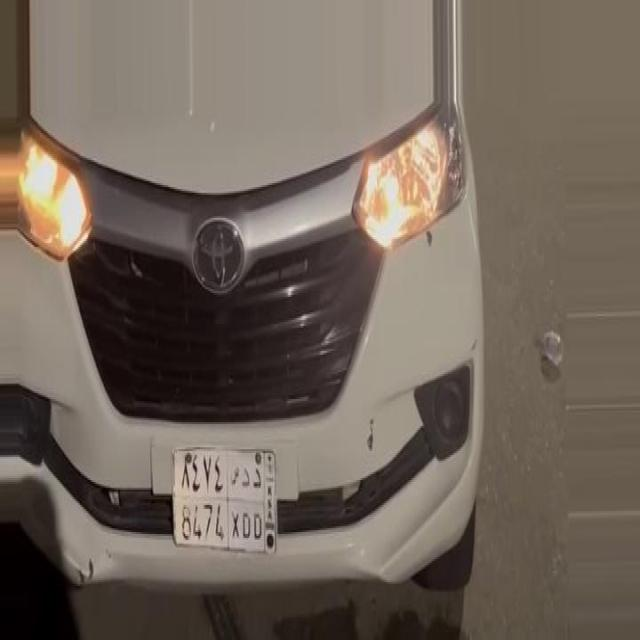Car-plate: (164, 430, 282, 567)
